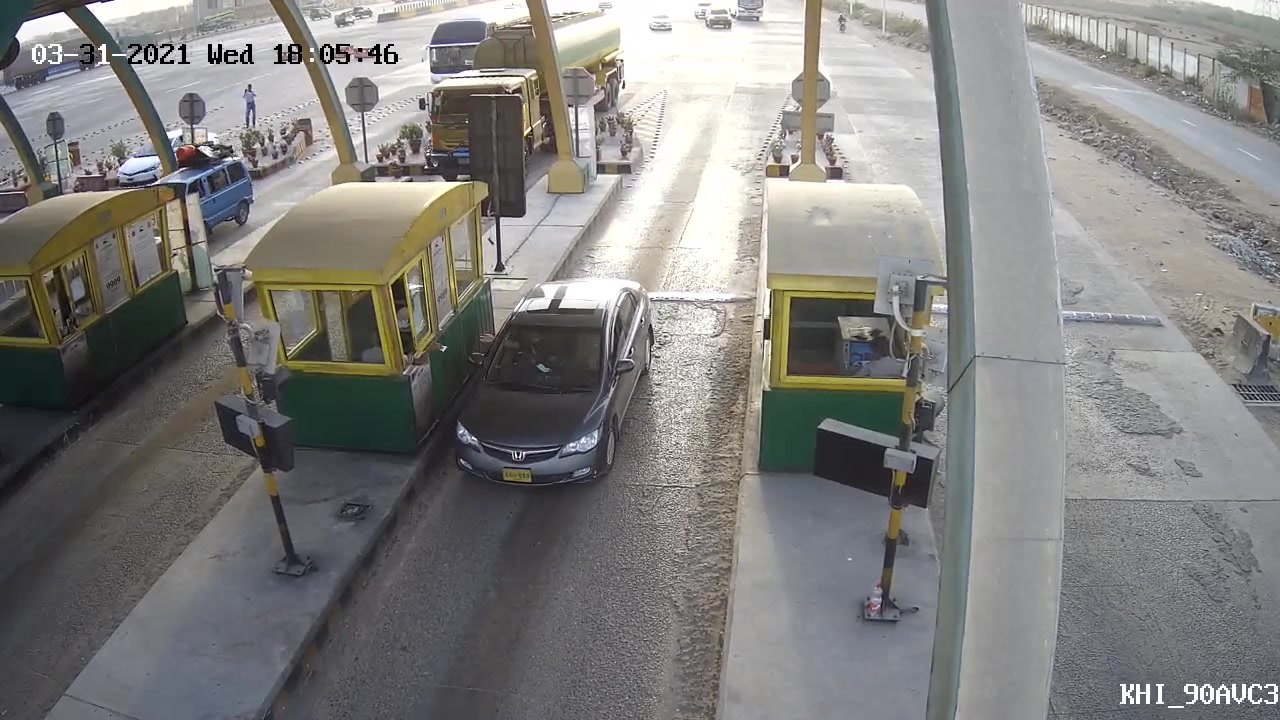F1: (448, 275, 665, 496)
